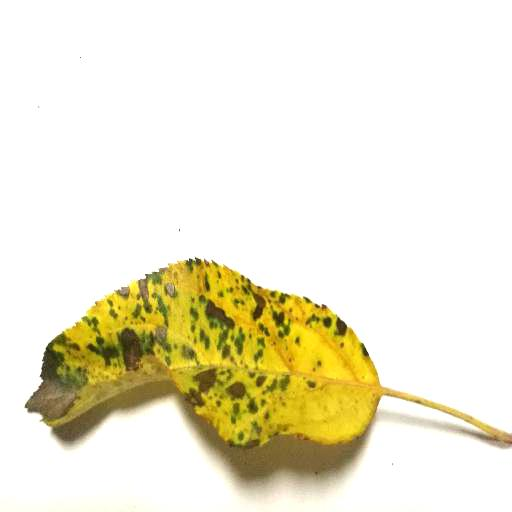Brown_Spot: (22, 230, 395, 505)
